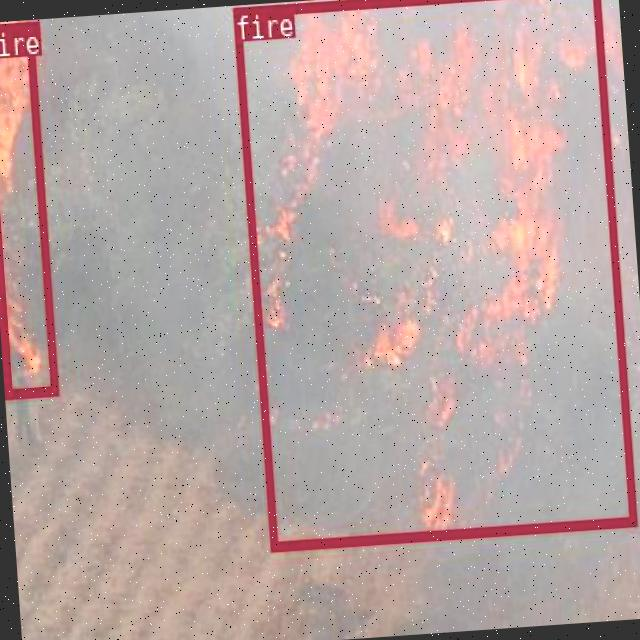fire: (231, 0, 635, 550), (0, 20, 55, 397)
